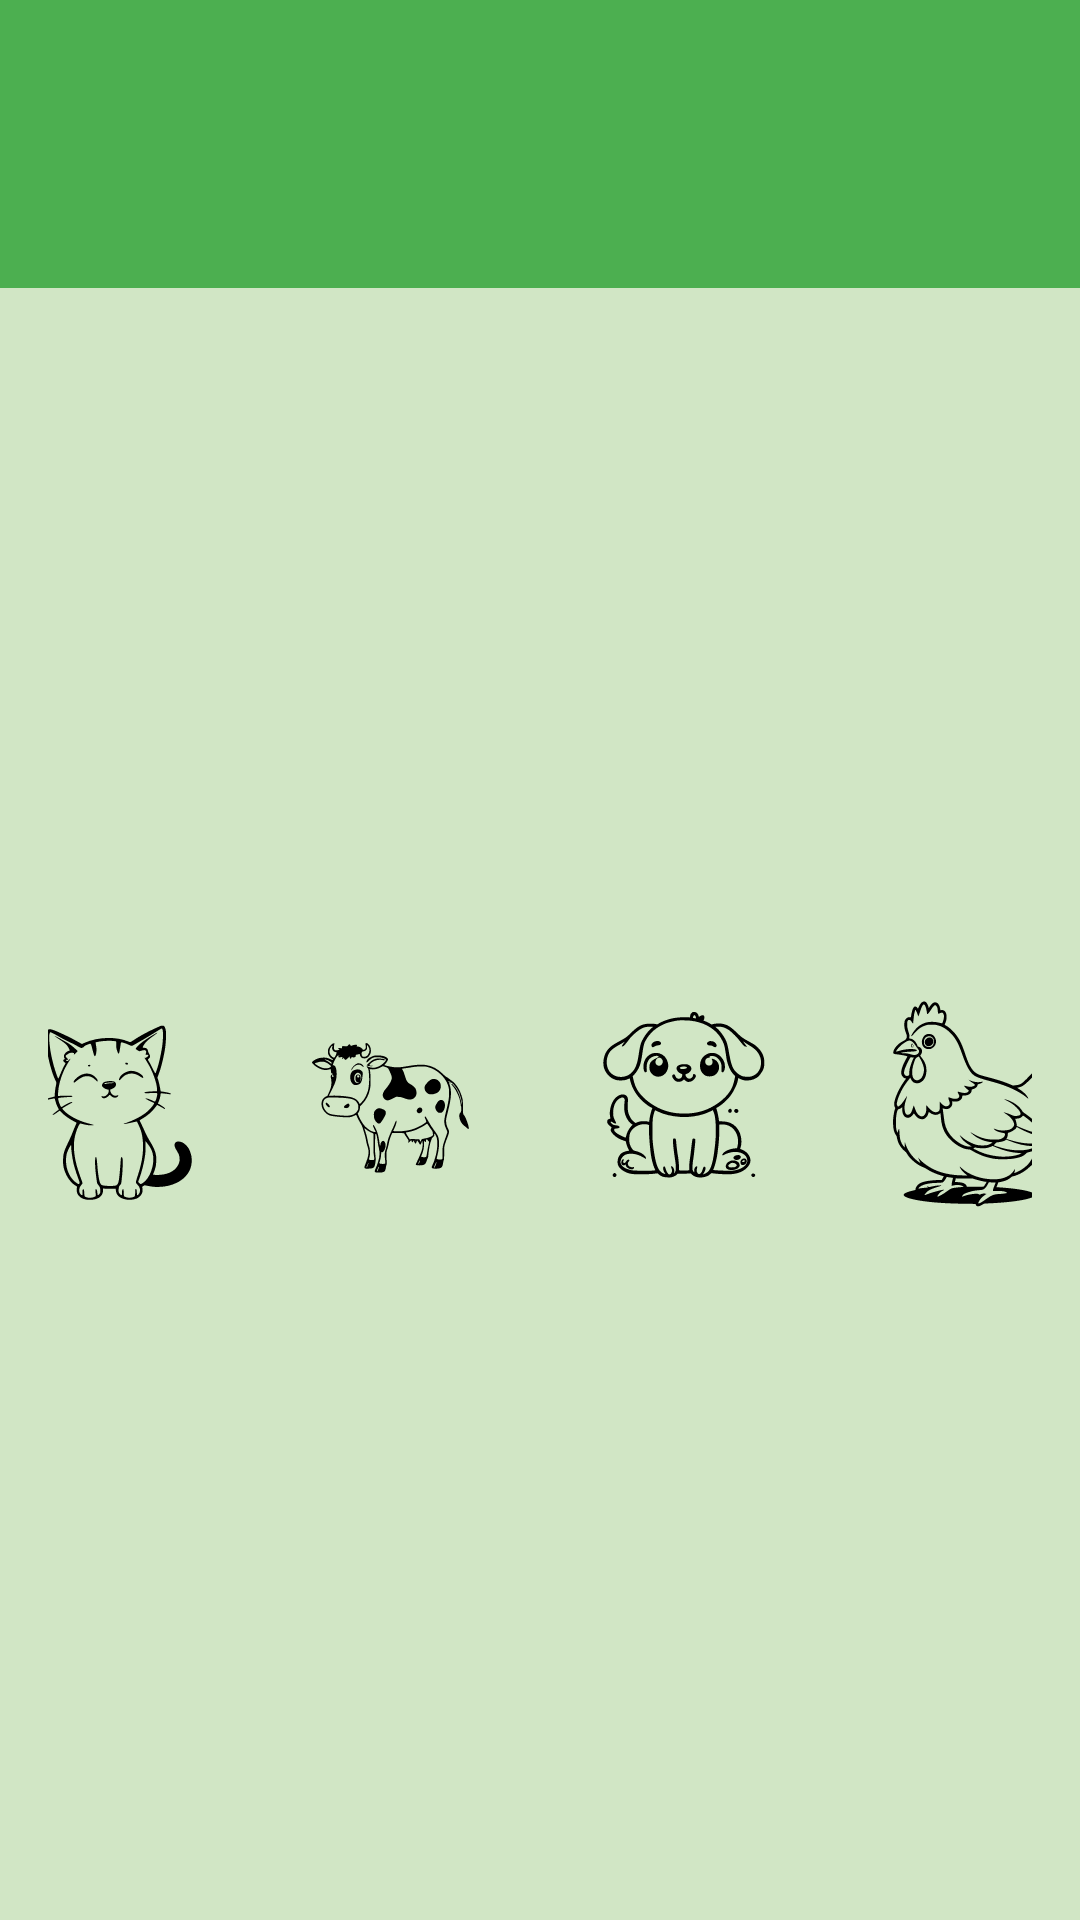

Screen size 1080px x 1920px. Icon name, then its box in pixels as bbox=(x1, y1, x2, y2):
Корова: bbox=(312, 1043, 469, 1173)
Курка: bbox=(893, 1001, 1032, 1207)
Кіт: bbox=(48, 1025, 192, 1200)
Собака: bbox=(603, 1012, 765, 1178)
